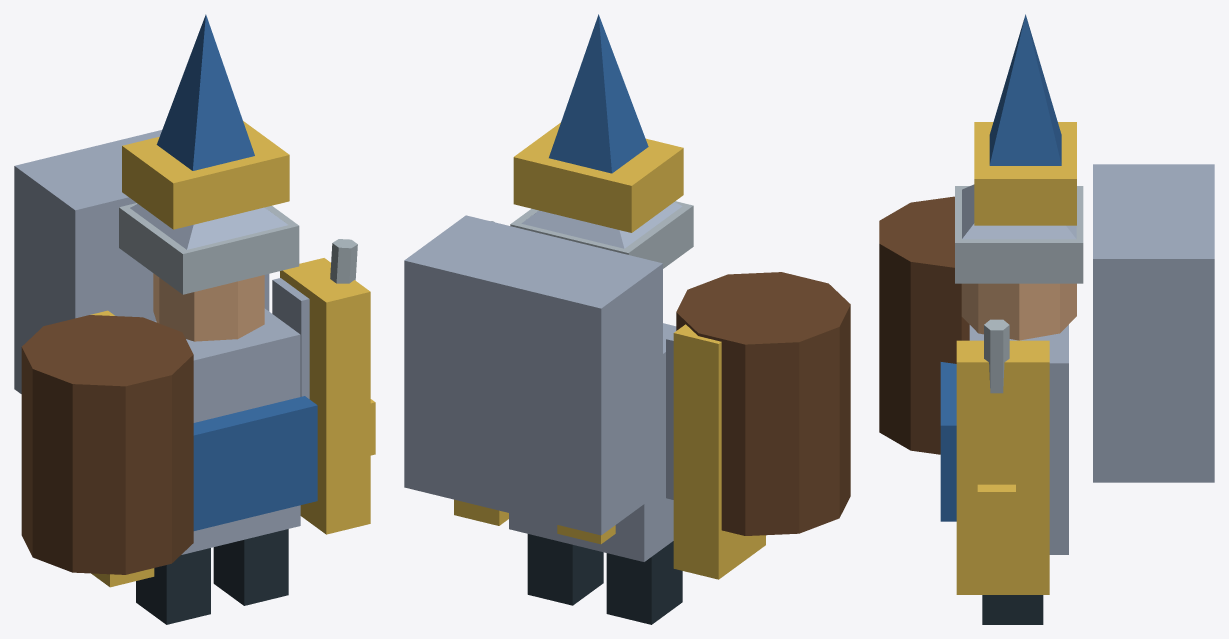
Rendered from mechanized-infantry.obj.
The picture shows the model from 3 angles, left to right: view 1: azimuth 30°, elevation 25°; view 2: azimuth 150°, elevation 25°; view 3: azimuth 270°, elevation 25°; orthographic projection.
Visible parts, largest first — view 1: infantry; view 2: infantry; view 3: infantry.
Boxes of the visible parts, x1,y1,x2,y2 form: infantry: (14,14,375,624); infantry: (404,14,850,624); infantry: (879,14,1214,624).
Size of the model in its own units: 1.26 by 2 by 1.05.
